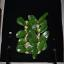leaf: (38, 13, 48, 23), (39, 31, 49, 41), (38, 38, 46, 50), (16, 17, 26, 26), (16, 30, 27, 38), (16, 46, 27, 54), (29, 37, 39, 45), (28, 14, 37, 22), (38, 25, 48, 32), (29, 29, 39, 36), (26, 44, 36, 51), (26, 19, 37, 25), (32, 49, 38, 58), (18, 38, 26, 44), (27, 25, 32, 33)
